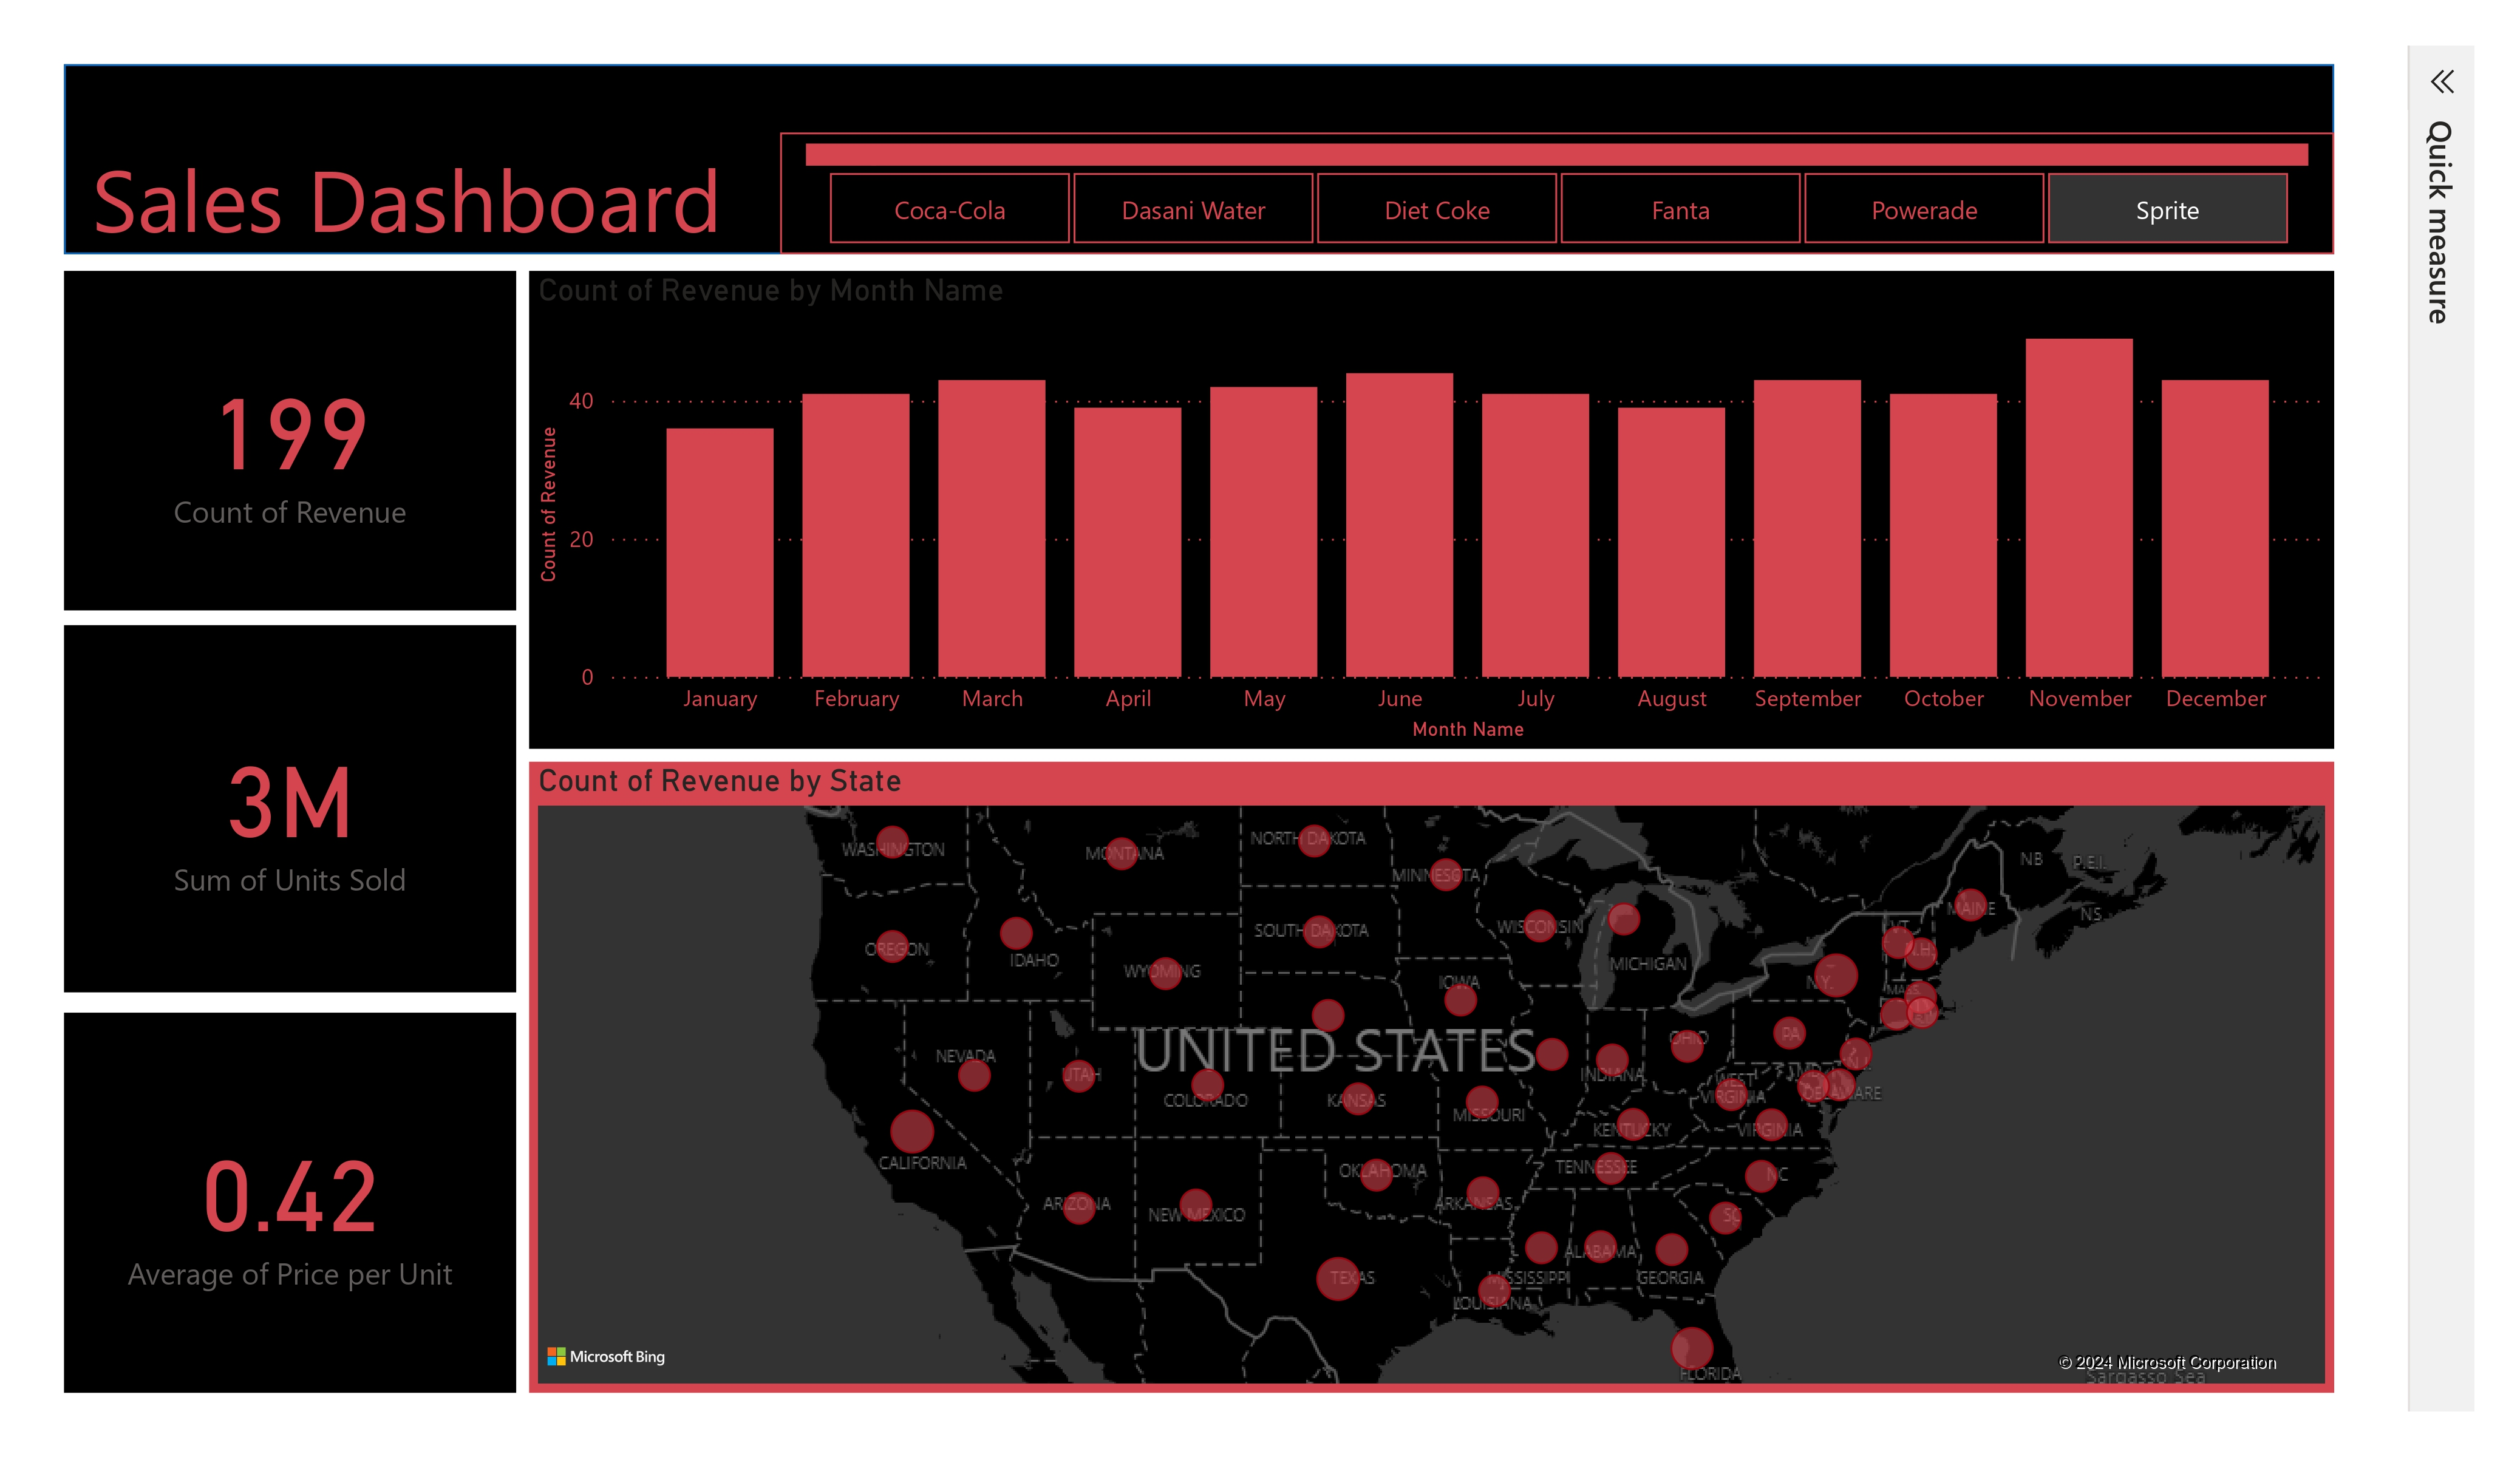

This screenshot's page, from the dashboard's own definition file:
{"tool":"powerbi","page":{"name":"Page 1","canvas":[1280,720],"ordinal":0},"visuals":[{"type":"shape","box":[10,0,1230,102.9],"z":0},{"type":"card","fields":{"Values":["Count(Data.Revenue)"]},"box":[10,111.9,244.8,183.9],"z":1000},{"type":"card","fields":{"Values":["Avg(Data.Price per Unit)"]},"box":[10,513.6,244.8,206.8],"z":2000},{"type":"card","fields":{"Values":["Sum(Data.Units Sold)"]},"box":[10,303.8,244.8,198.8],"z":3000},{"type":"columnChart","fields":{"Category":["Data.Month Name"],"Y":["Count(Data.Revenue)"]},"box":[261.8,111.9,978.2,258.8],"z":4000},{"type":"map","fields":{"Category":["Data.State"],"Size":["CountNonNull(Data.Revenue)"]},"box":[261.8,377.7,978.2,342.7],"z":5000},{"type":"slicer","fields":{"Values":["Data.Beverage Brand"]},"box":[397.7,37,842.3,65.9],"z":6000}]}

Visuals, with their boxes on the page's 1280x720 design canvas (x1, y1, x2, y2). These are canvas units, not pixel positions in the 2520x1457 screenshot, which may show the page scaled, cropped or inside an application window:
shape: (left=10, top=0, right=1240, bottom=103)
card - Count(Data.Revenue): (left=10, top=112, right=255, bottom=296)
card - Avg(Data.Price per Unit): (left=10, top=514, right=255, bottom=720)
card - Sum(Data.Units Sold): (left=10, top=304, right=255, bottom=503)
columnChart - Data.Month Name x Count(Data.Revenue): (left=262, top=112, right=1240, bottom=371)
map - Data.State x CountNonNull(Data.Revenue): (left=262, top=378, right=1240, bottom=720)
slicer - Data.Beverage Brand: (left=398, top=37, right=1240, bottom=103)
